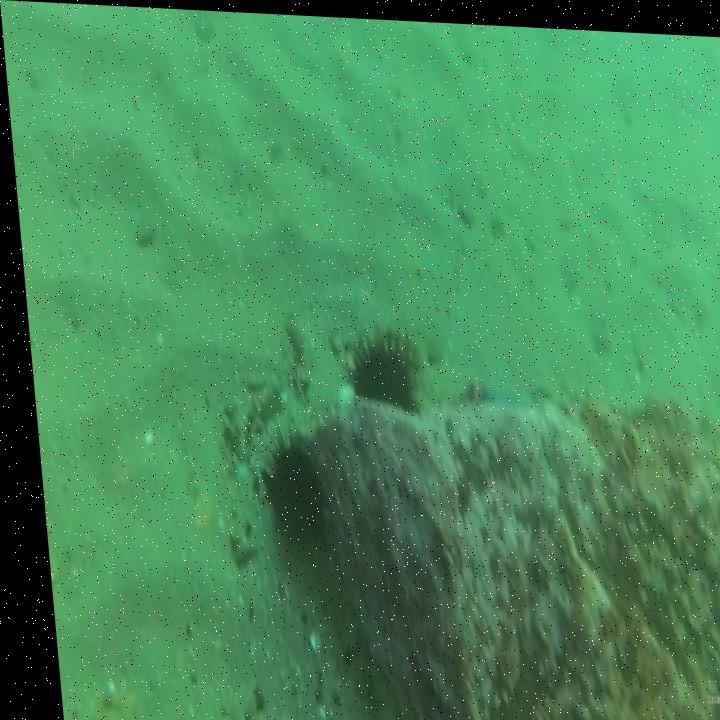echinus: (253, 429, 322, 557), (340, 319, 419, 414)
